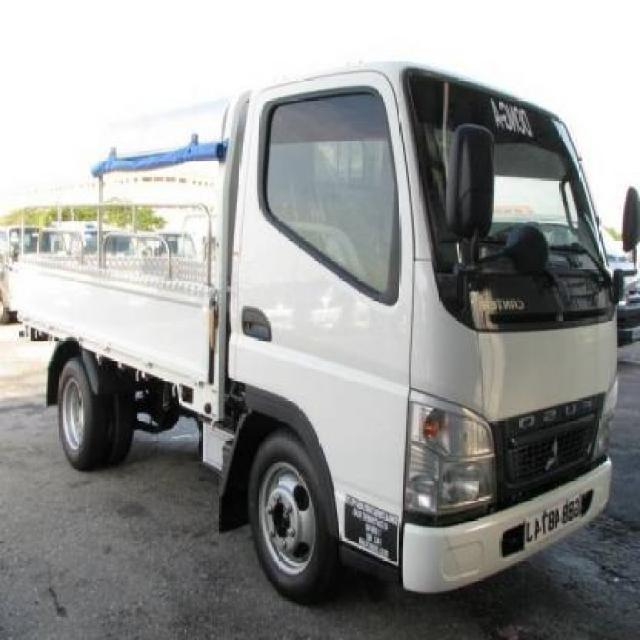truck: (12, 61, 640, 607)
